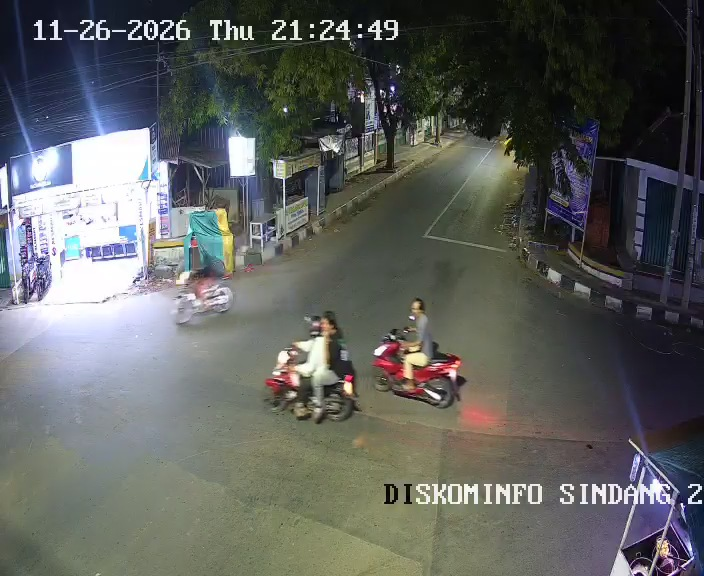Gerobak: (608, 437, 703, 575)
